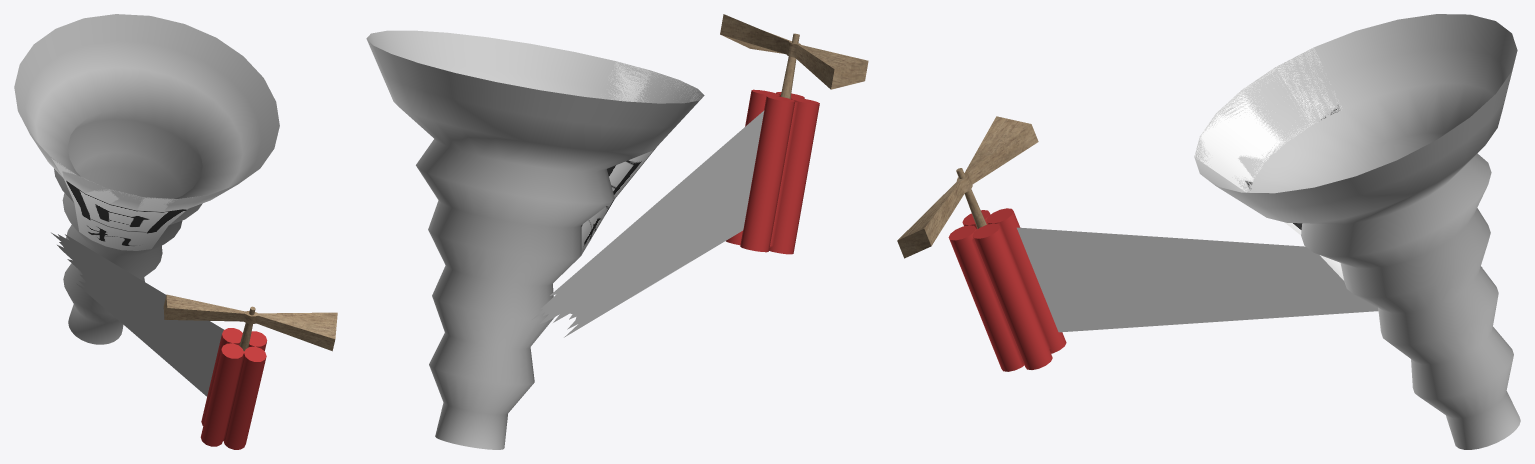
File: タイトル.FBX
3 views of the same model, side by side, from view 1: azimuth 30°, elevation 25°; view 2: azimuth 150°, elevation 25°; view 3: azimuth 270°, elevation 25° (orthographic). The views are drawn at different scales.
Parts seen in each view (by area): view 1: rrrr, rr, Cylinder001, tttt, オブジェクト001; view 2: rrrr, rr, Cylinder001, オブジェクト001, tttt; view 3: rrrr, rr, Cylinder001, tttt, オブジェクト001.
Boxes of the visible parts, <box> form: rrrr: <box>14,14,279,344</box>; rr: <box>51,232,223,396</box>; Cylinder001: <box>200,328,267,449</box>; tttt: <box>51,158,192,250</box>; オブジェクト001: <box>163,294,337,351</box>; rrrr: <box>366,30,704,449</box>; rr: <box>532,110,764,337</box>; Cylinder001: <box>726,89,819,254</box>; オブジェクト001: <box>720,14,868,98</box>; tttt: <box>580,62,702,256</box>; rrrr: <box>1194,14,1520,449</box>; rr: <box>1017,227,1482,332</box>; Cylinder001: <box>948,208,1066,371</box>; tttt: <box>1195,48,1343,280</box>; オブジェクト001: <box>897,116,1038,258</box>.
Size of the model in its own units: 59.64 by 73.78 by 106.
